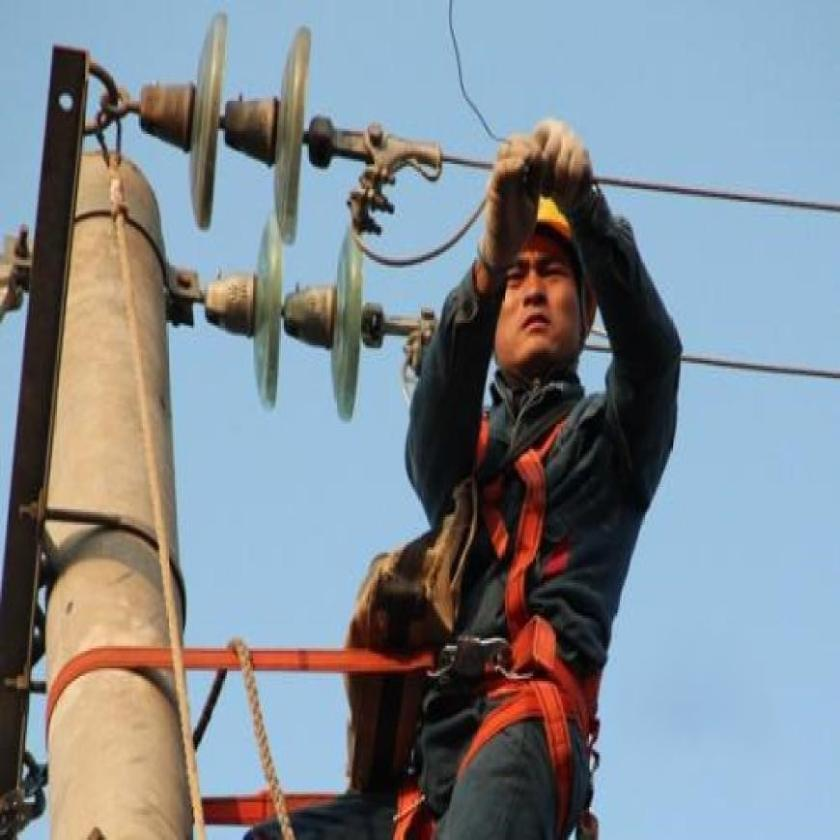Con_casco: (487, 188, 604, 374)
